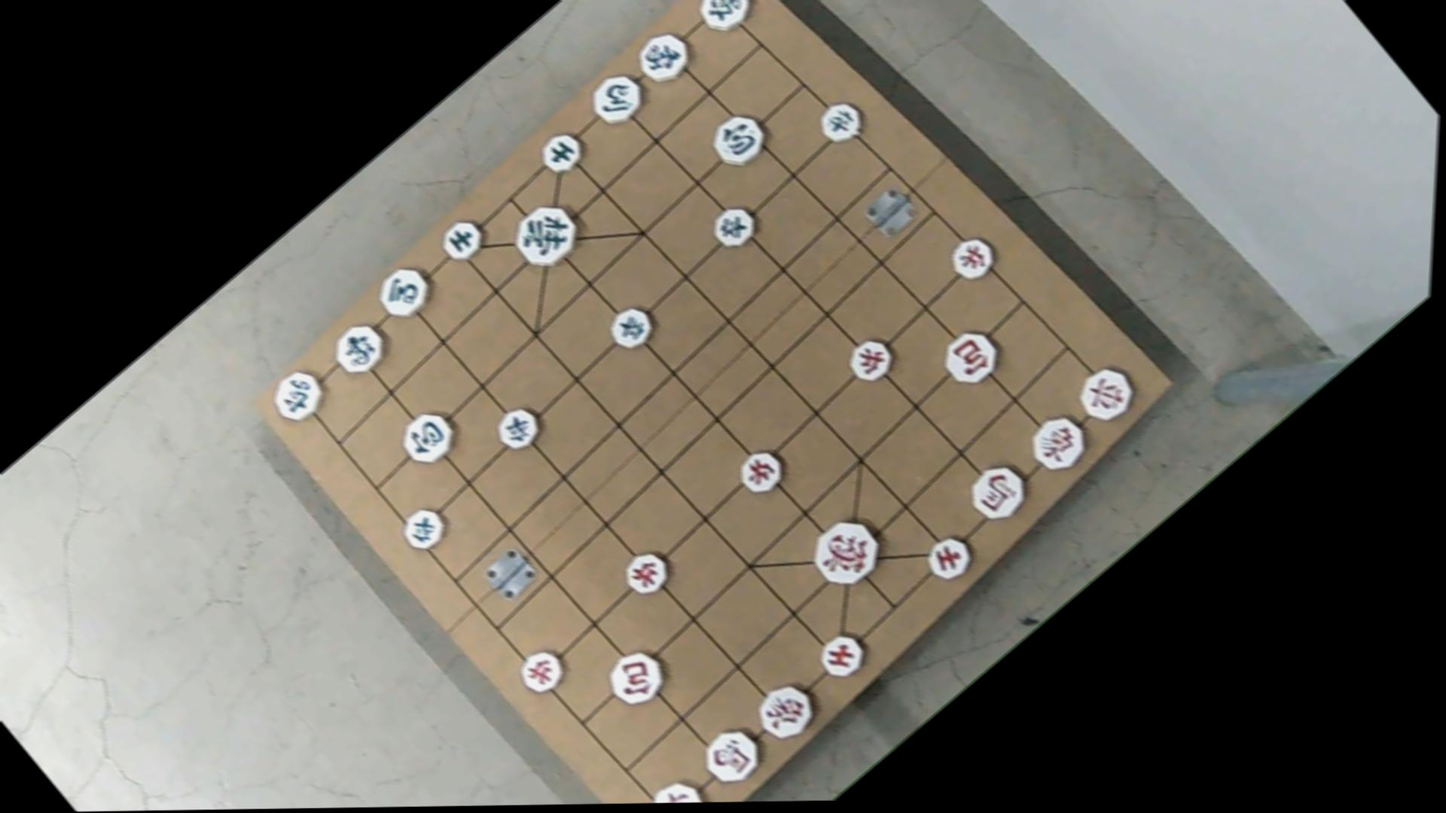cha_green: (262, 361, 336, 431), (689, 0, 758, 39)
cha_red: (1069, 360, 1144, 430), (642, 772, 718, 803)
jol_green: (601, 297, 662, 354), (489, 402, 549, 458), (809, 95, 869, 151), (704, 199, 764, 254), (395, 503, 452, 557)
jol_red: (939, 227, 1005, 291), (612, 544, 676, 605), (508, 642, 572, 703), (728, 442, 792, 502), (842, 332, 902, 388)
ma_green: (368, 259, 441, 326), (584, 64, 654, 129)
ma_red: (694, 720, 773, 795), (960, 456, 1038, 529)
po_green: (394, 401, 465, 470), (703, 106, 775, 173)
po_red: (937, 319, 1011, 390), (599, 645, 673, 715)
sa_green: (535, 125, 593, 178), (435, 215, 492, 267)
sa_red: (918, 527, 981, 586), (812, 626, 873, 684)
sang_green: (628, 22, 700, 91), (323, 316, 395, 384)
sang_red: (1018, 405, 1100, 483), (743, 673, 824, 751)
wang_green: (505, 196, 590, 276)
wang_red: (804, 511, 895, 597)
